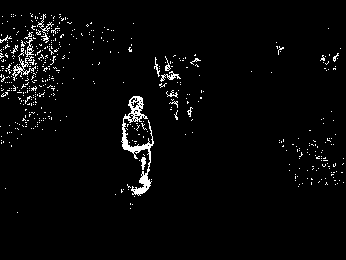person: (122, 95, 153, 199)
